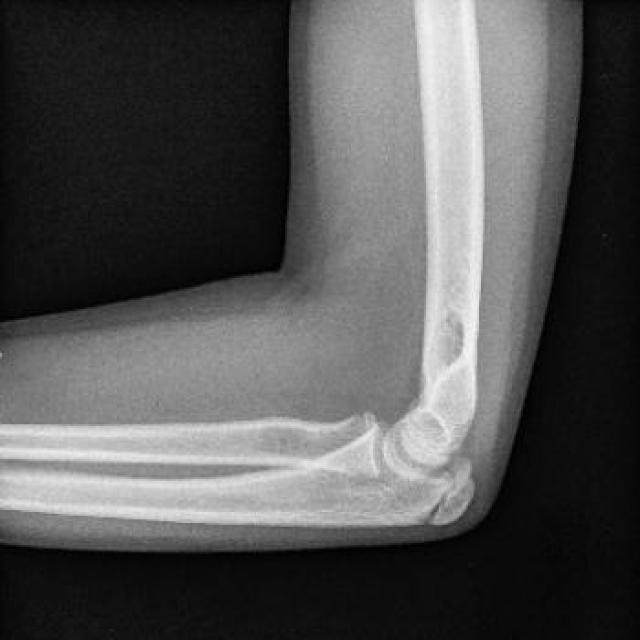Fracture: (424, 459, 498, 534)
